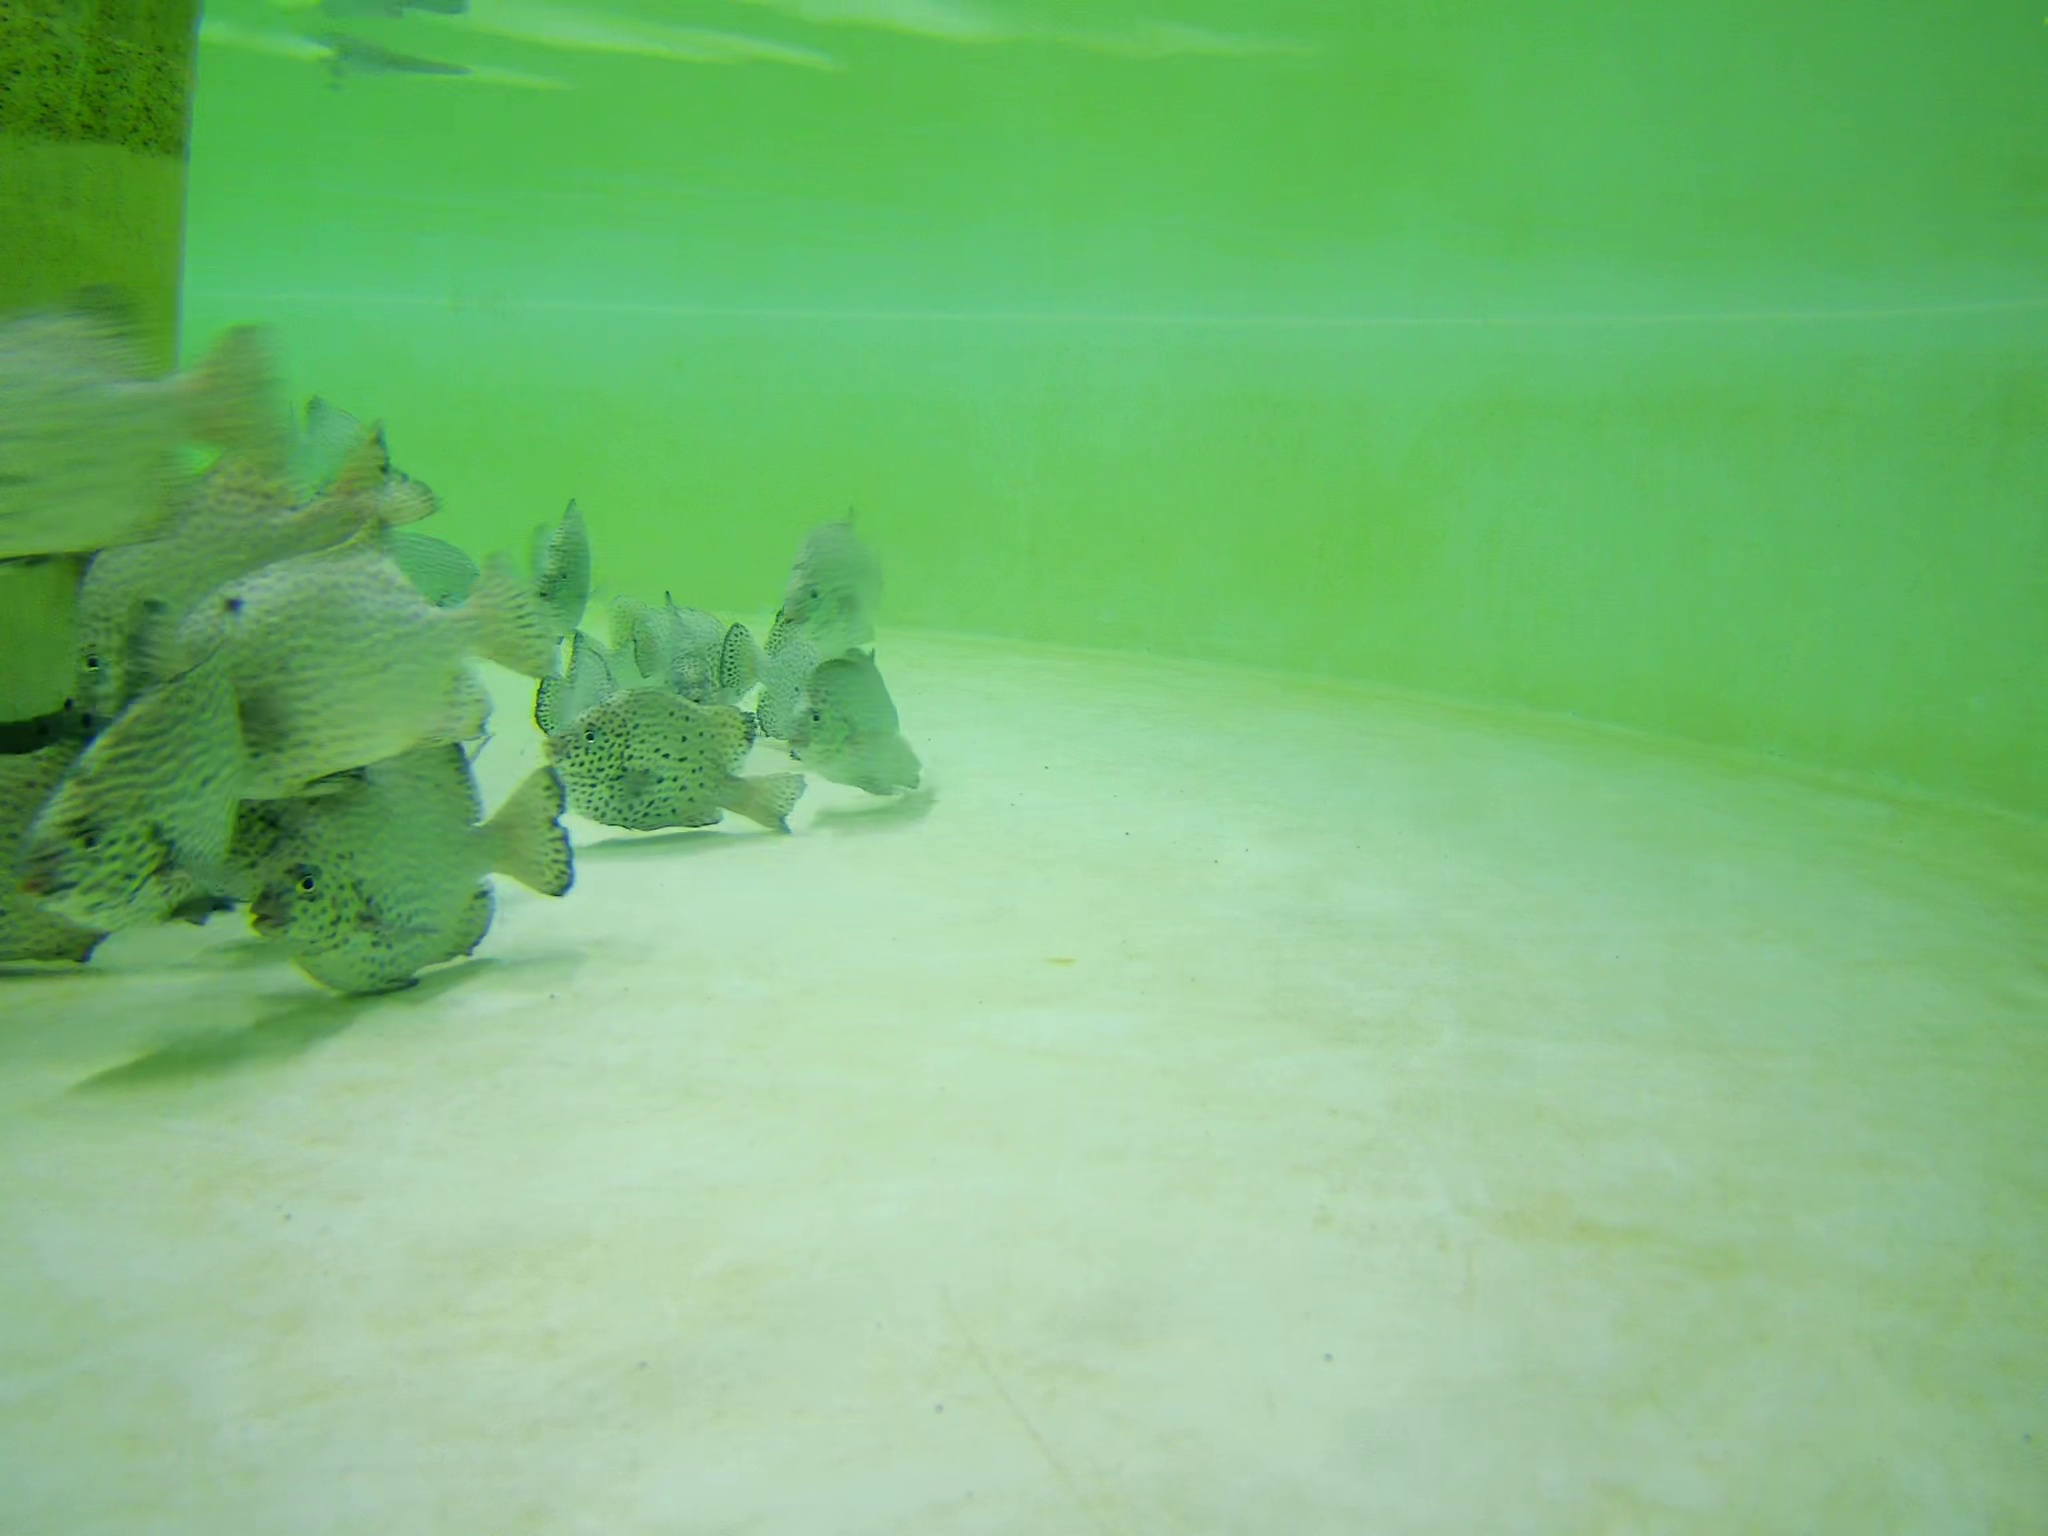fish: (127, 532, 553, 774), (85, 410, 393, 700), (239, 750, 579, 994), (2, 297, 273, 566), (29, 649, 268, 939), (550, 686, 803, 854), (537, 629, 721, 770), (792, 650, 926, 802), (771, 503, 890, 655), (634, 597, 764, 712), (532, 494, 592, 637)
